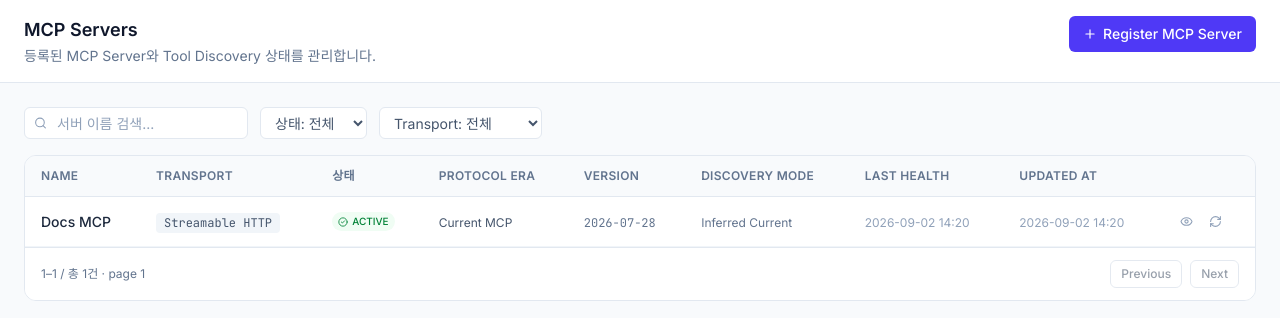
it: MCPServers — API list › shows FAILED status from connection test response
The image size is (1280, 318).
expect the text "Docs MCP" is shown: met, box left=41, top=212, right=111, bottom=230
Click the button titled "연결 테스트".
click(1215, 222)  # box left=1203, top=209, right=1228, bottom=234
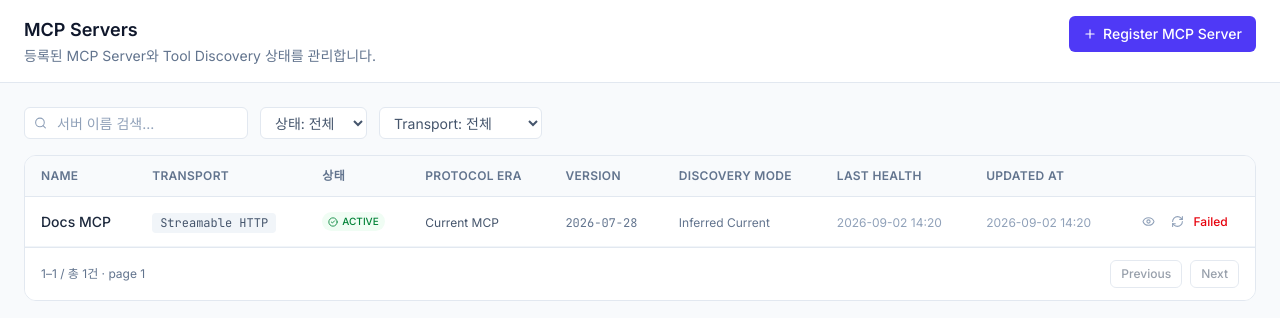
expect the text "Failed" is shown: met, box left=1194, top=214, right=1228, bottom=230
